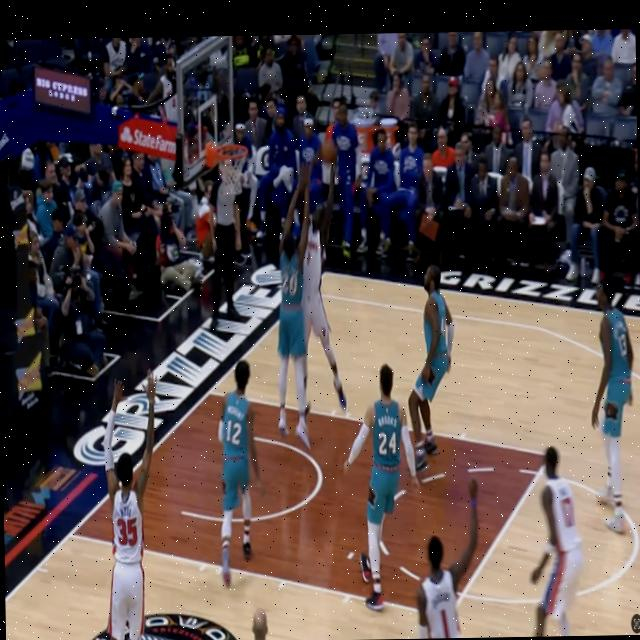foul: (270, 154, 345, 441)
